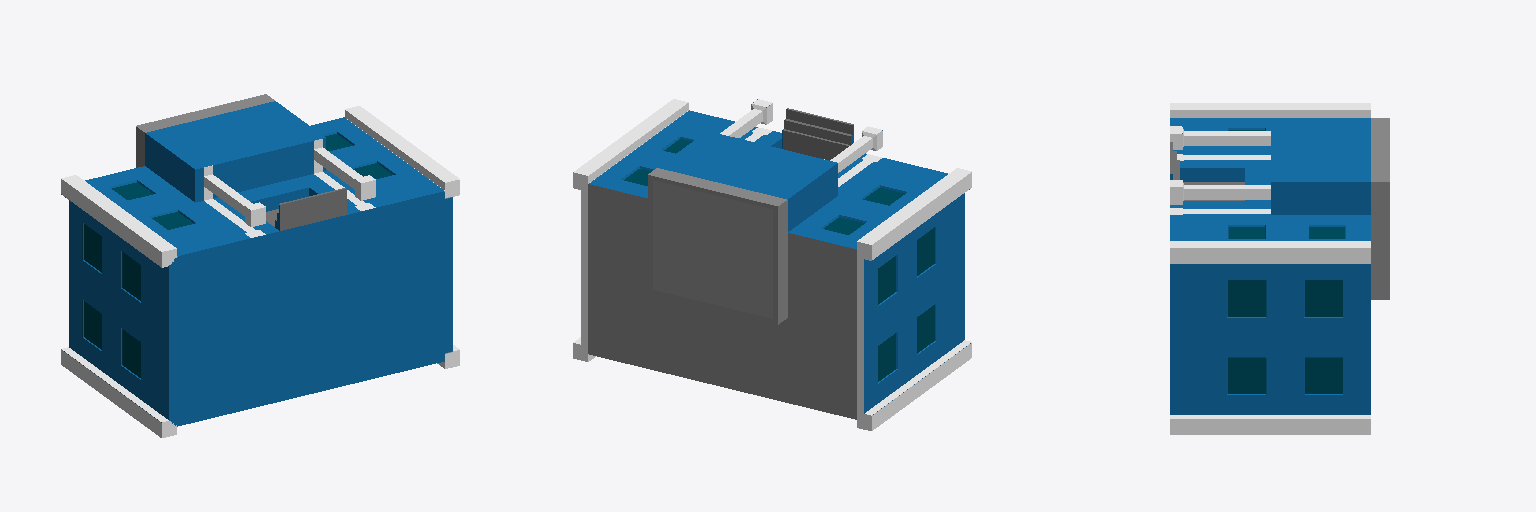
3 renders of one model, left to right at view 1: azimuth 30°, elevation 25°; view 2: azimuth 150°, elevation 25°; view 3: azimuth 270°, elevation 25°, orthographic.
Parts seen in each view (by area): view 1: police-station_Plane.036; view 2: police-station_Plane.036; view 3: police-station_Plane.036.
Boxes of the visible parts, x1,y1,x2,y2 form: police-station_Plane.036: [61, 94, 459, 437]; police-station_Plane.036: [573, 99, 971, 430]; police-station_Plane.036: [1170, 103, 1389, 434].
Bounding box in the file's own units: 14.2 × 9.6 × 9.08.
1 materials, 1 textured.